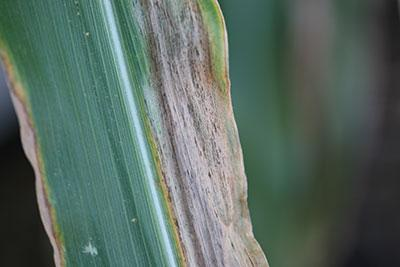Corn_Blight: (115, 1, 279, 266), (2, 44, 73, 266), (82, 234, 107, 259)
